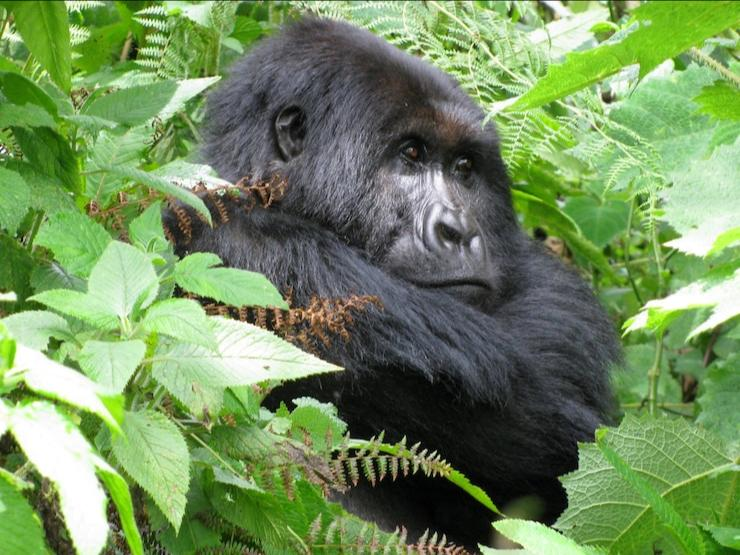goriile_montagne: (163, 1, 638, 506)
